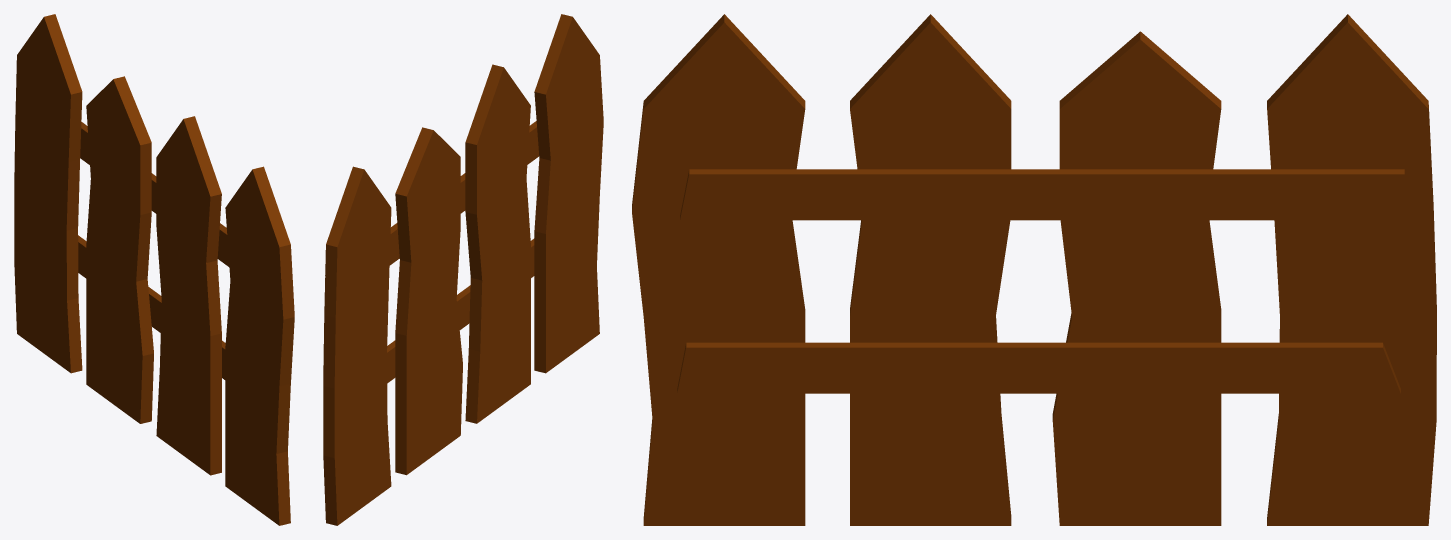
The model's file is Cerca.fbx.
3 renders of one model, left to right at view 1: azimuth 30°, elevation 25°; view 2: azimuth 150°, elevation 25°; view 3: azimuth 270°, elevation 25°, orthographic. The views are drawn at different scales.
Visible parts, largest first — view 1: Cube.003, Cube.002, Cube.001, Cube, Cubo, Cubo.001; view 2: Cube.003, Cube.002, Cube.001, Cube, Cubo, Cubo.001; view 3: Cube.002, Cube.003, Cube.001, Cube, Cubo.001, Cubo.
Part boxes in pixels (bbox=[...]): Cube.003: bbox=[14, 14, 82, 373]; Cube.002: bbox=[225, 166, 294, 525]; Cube.001: bbox=[86, 76, 153, 423]; Cube: bbox=[156, 116, 221, 475]; Cubo: bbox=[78, 235, 225, 379]; Cubo.001: bbox=[80, 122, 229, 266]; Cube.003: bbox=[323, 166, 391, 525]; Cube.002: bbox=[534, 14, 603, 373]; Cube.001: bbox=[395, 127, 462, 475]; Cube: bbox=[465, 64, 530, 423]; Cubo: bbox=[387, 238, 534, 383]; Cubo.001: bbox=[325, 121, 539, 275]; Cube.002: bbox=[632, 14, 805, 525]; Cube.003: bbox=[1267, 14, 1436, 525]; Cube.001: bbox=[1052, 31, 1221, 525]; Cube: bbox=[850, 14, 1011, 525]; Cubo.001: bbox=[680, 169, 1404, 220]; Cubo: bbox=[677, 342, 1400, 393].
Bounding box in the file's own units: 24.86 × 393 × 569.
